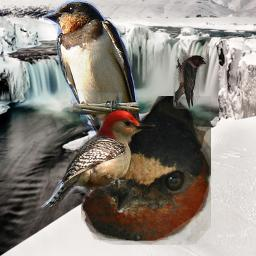Swallow: (43, 0, 168, 208), (81, 96, 211, 245), (173, 55, 206, 109)
Woodpecker: (39, 107, 158, 211)
